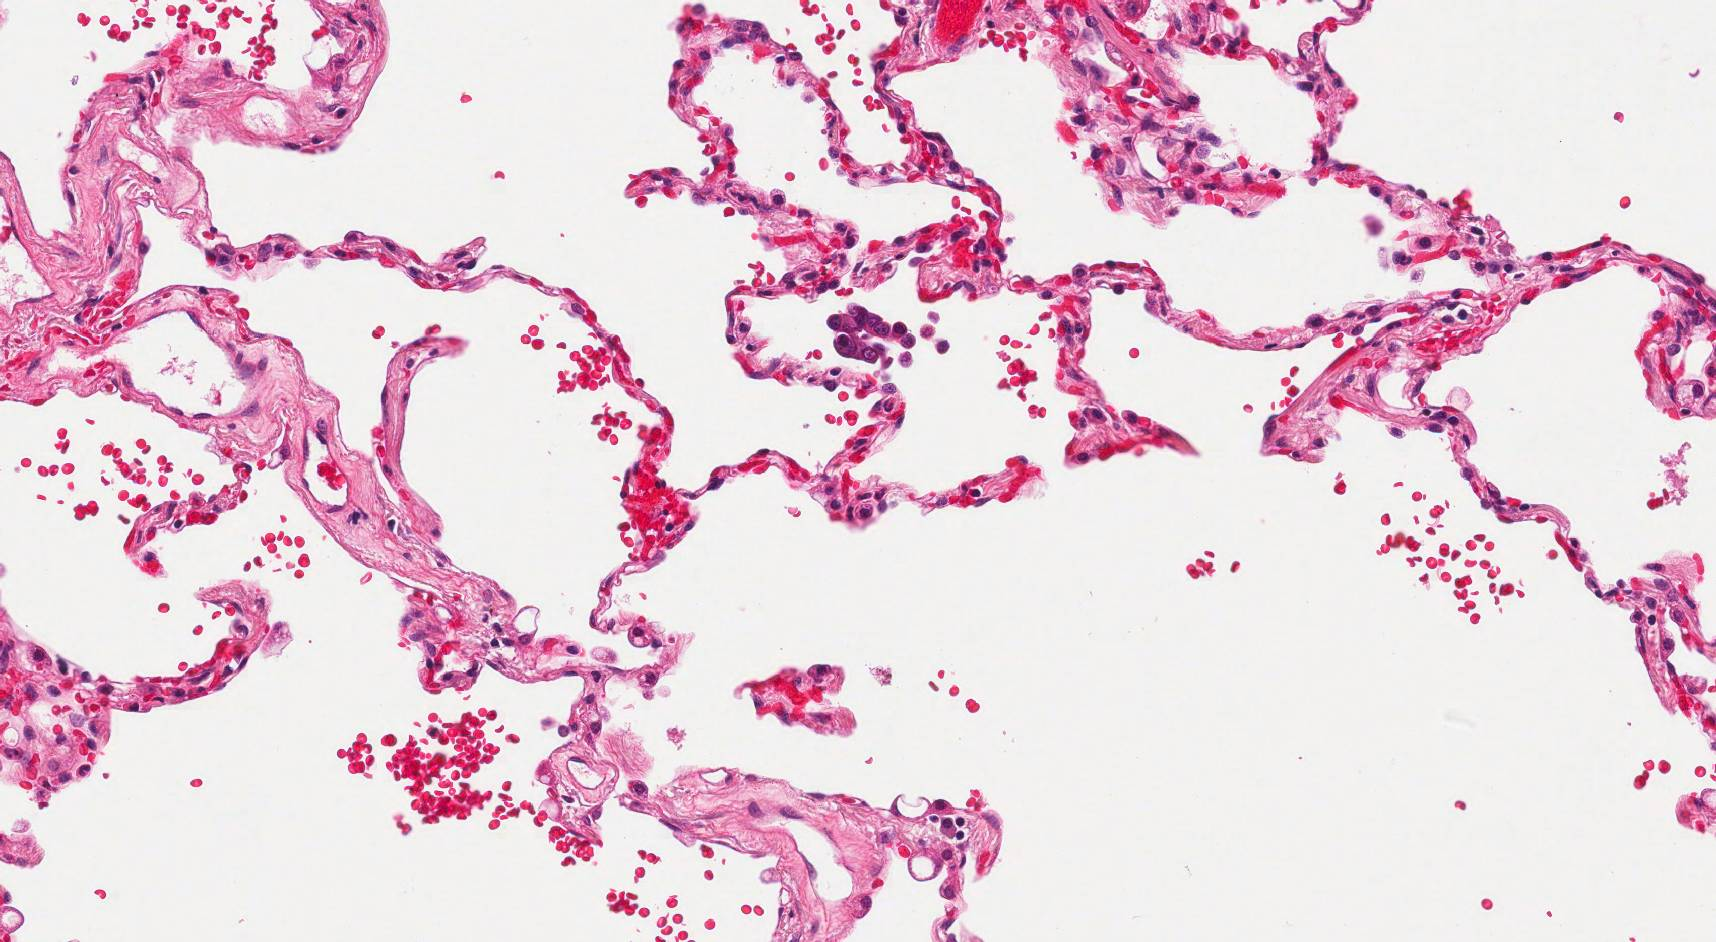stas: (824, 301, 916, 368)
